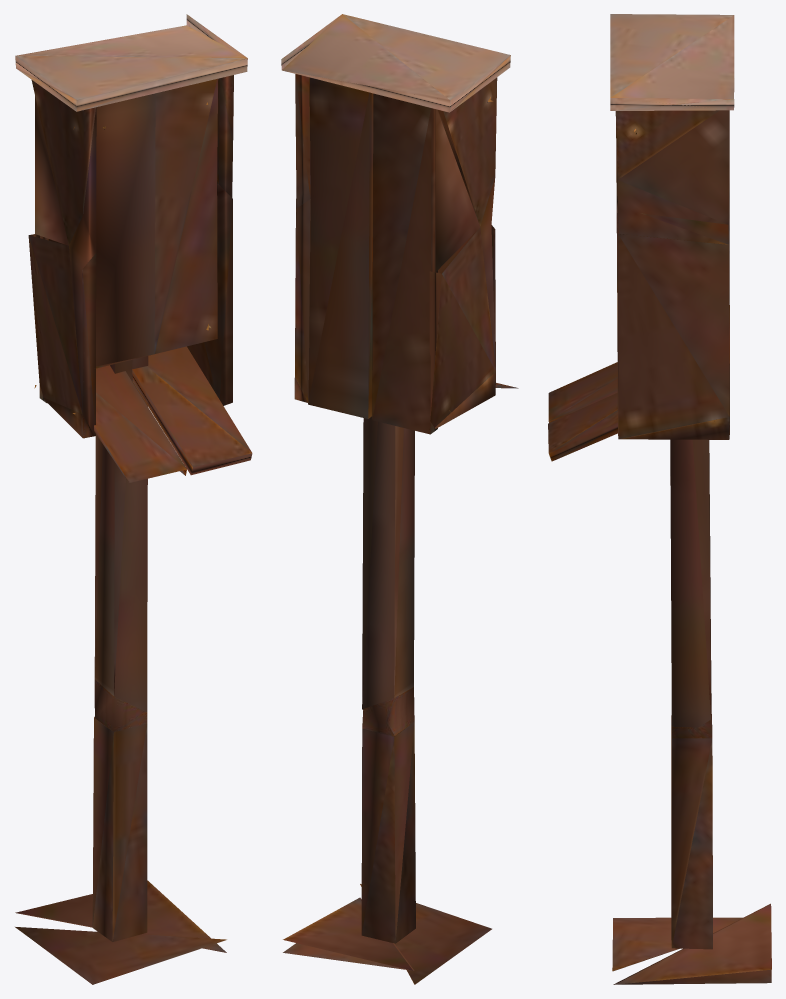
The model's file is bat-box.lod1.glb.
3 renders of one model, left to right at view 1: azimuth 30°, elevation 25°; view 2: azimuth 150°, elevation 25°; view 3: azimuth 270°, elevation 25°, orthographic. The views are drawn at different scales.
Visible parts, largest first — view 1: bat-box.001; view 2: bat-box.001; view 3: bat-box.001.
Part boxes in pixels (bbox=[...]): bat-box.001: bbox=[15, 14, 252, 984]; bat-box.001: bbox=[281, 14, 518, 984]; bat-box.001: bbox=[548, 14, 771, 984].
Bounding box in the file's own units: 0.3216 × 1.6 × 0.3617.
Materials: 1 (1 with a texture image).
